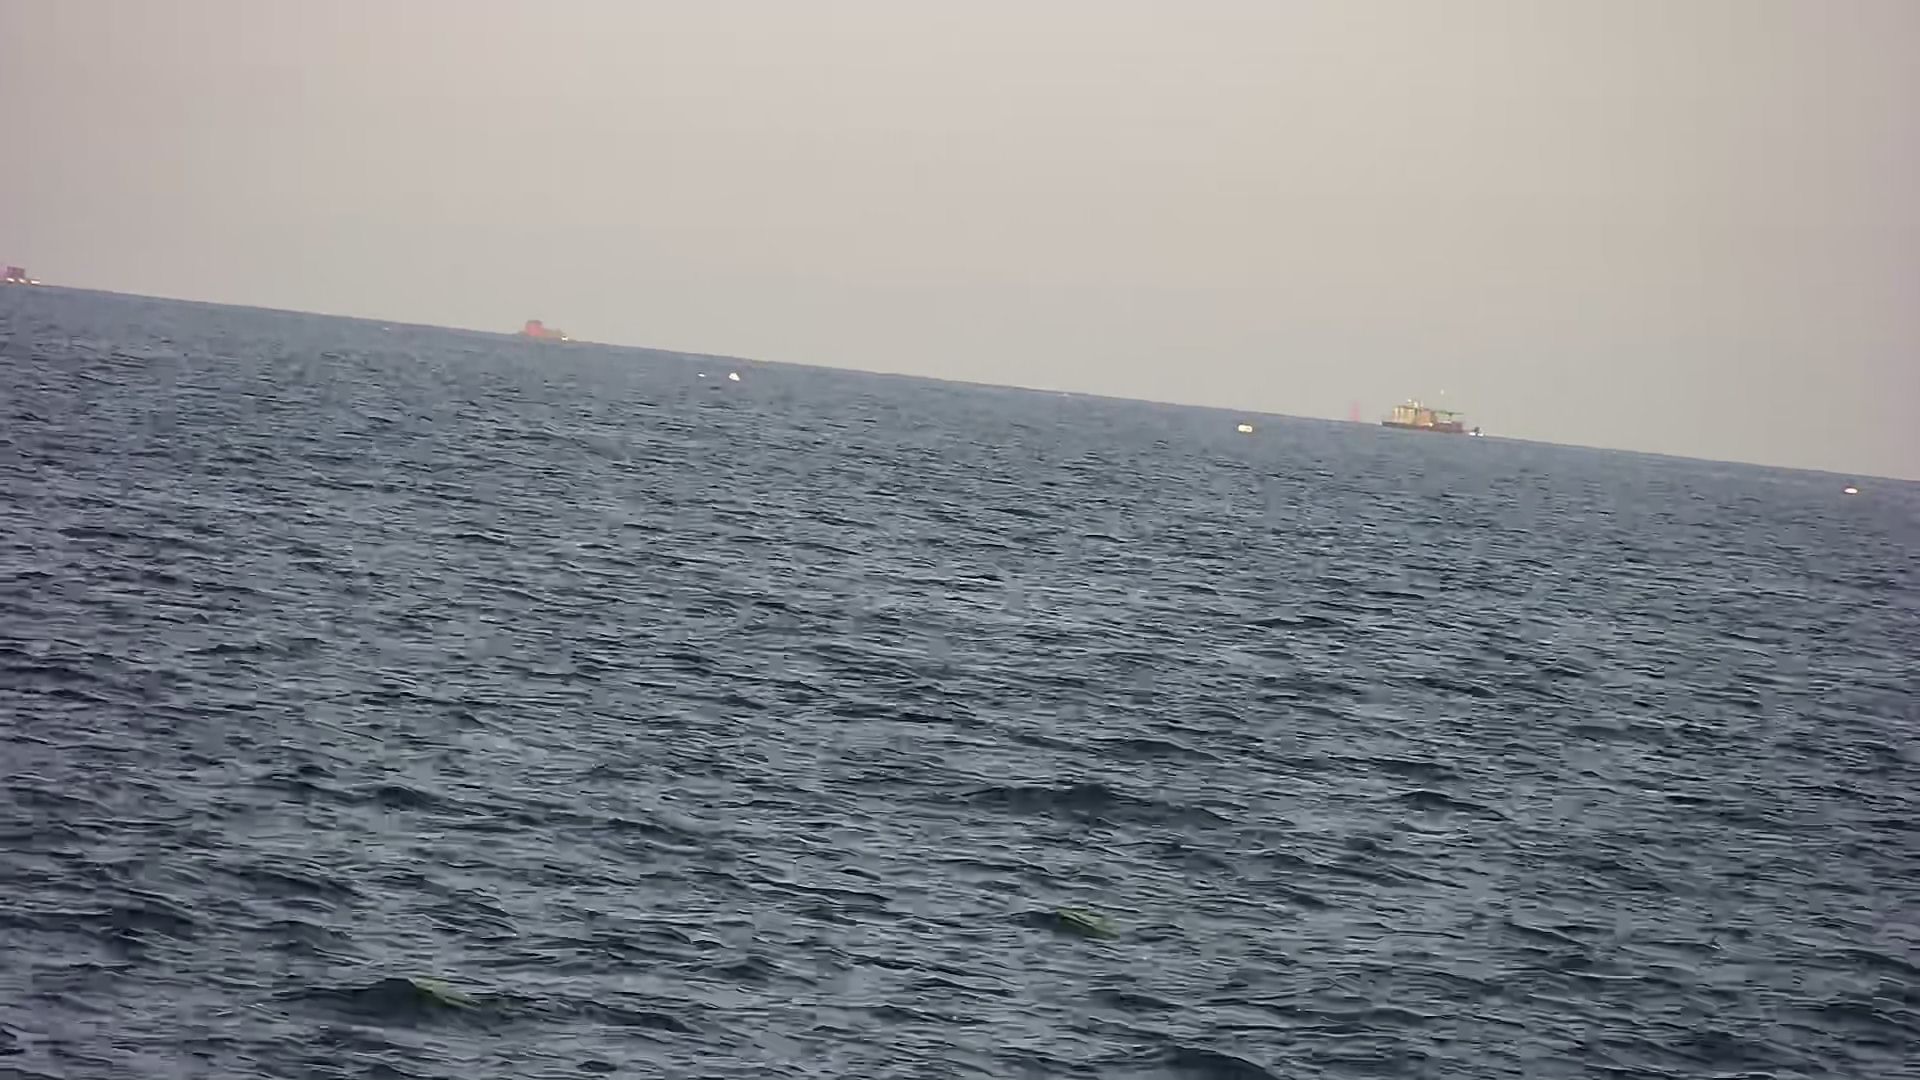ship: (1371, 375, 1487, 439), (509, 315, 582, 355)
